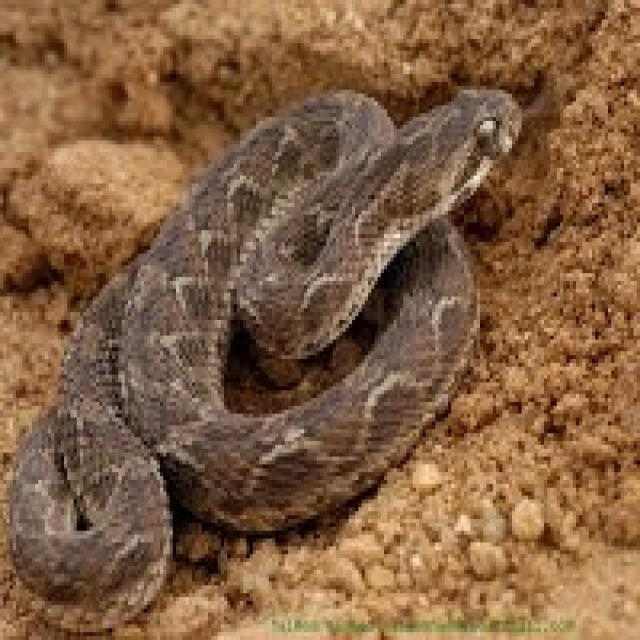Snake: (3, 74, 538, 632)
